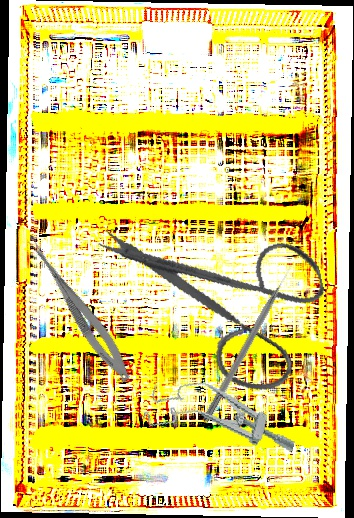Iris Scissors: (94, 183, 344, 420)
Micro Scissor: (18, 234, 139, 387)
Pusher: (201, 261, 298, 425)
Speculum: (141, 370, 304, 463)
